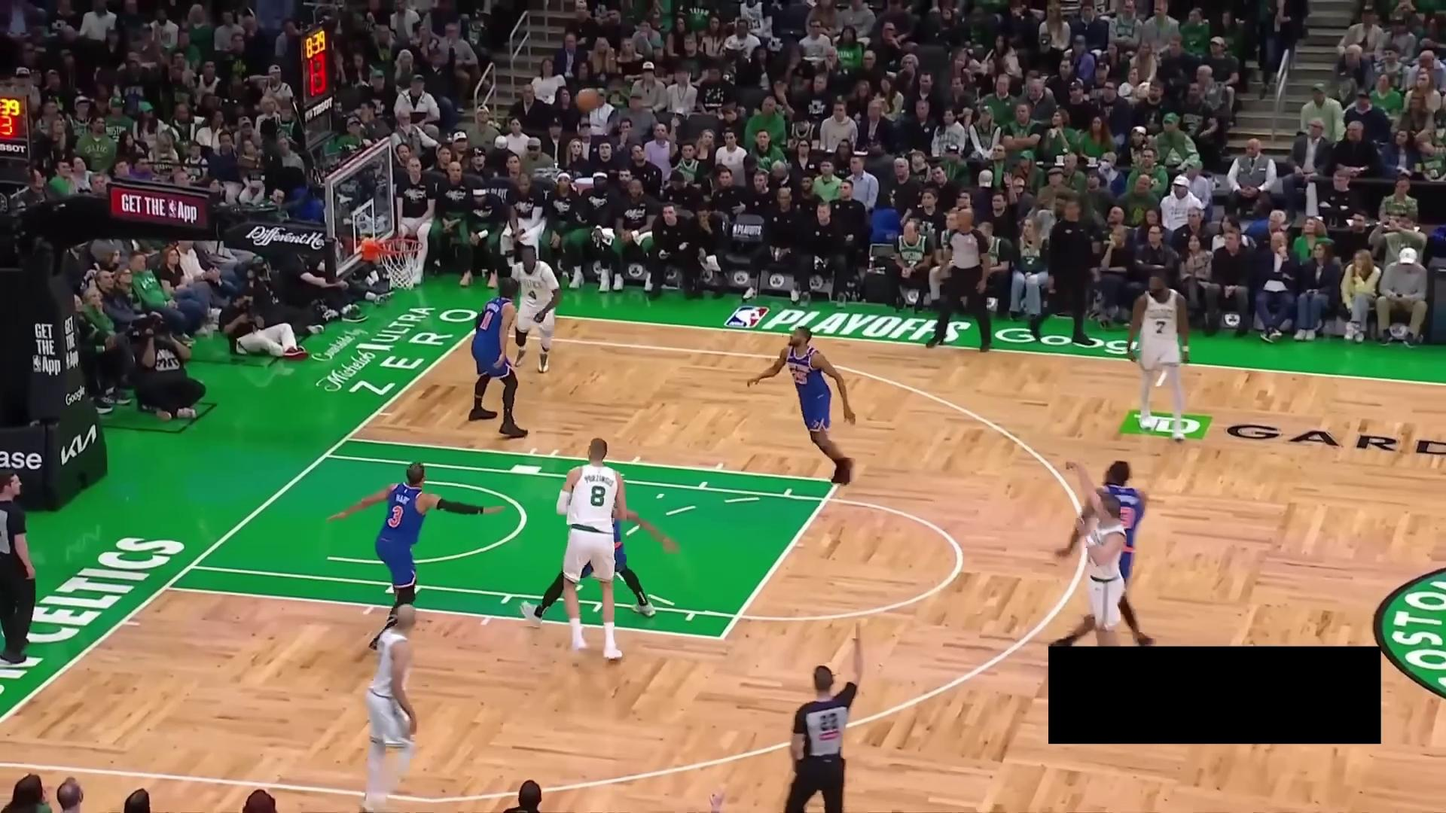ball: (576, 88, 598, 110)
number: (387, 505, 405, 531), (590, 483, 608, 509), (788, 368, 807, 386), (480, 310, 494, 330), (1154, 318, 1166, 335), (528, 288, 537, 301)
player: (326, 461, 508, 651), (518, 491, 679, 630), (1049, 461, 1155, 645), (553, 435, 634, 664), (746, 325, 858, 486), (361, 605, 418, 813), (1063, 460, 1126, 645), (1125, 271, 1190, 443), (468, 277, 528, 438), (509, 244, 562, 374)
referee: (789, 617, 866, 813), (925, 207, 992, 354), (0, 460, 38, 671)
rim: (379, 235, 424, 257)
